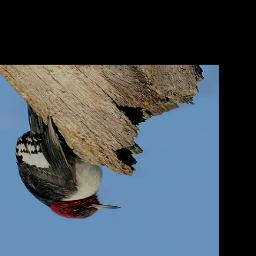Woodpecker: (15, 104, 122, 219)
